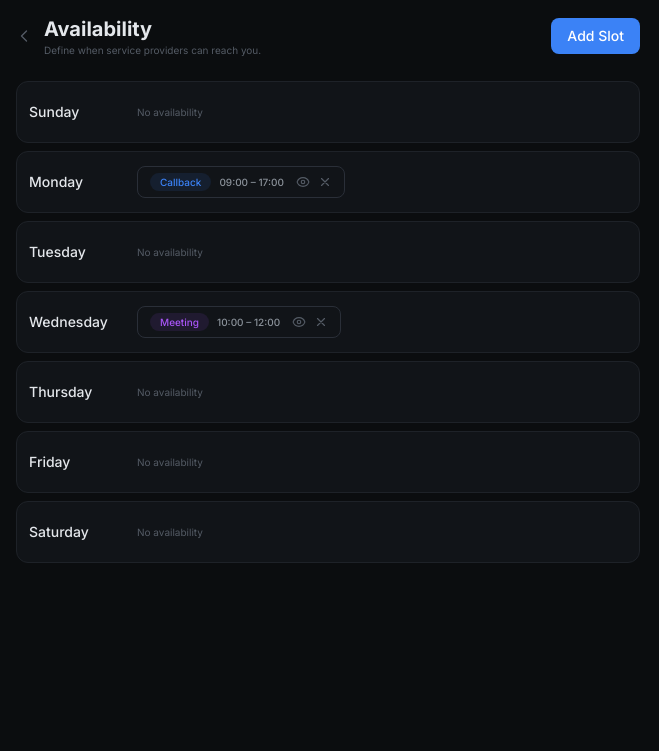
Test case: AvailabilitySettingsPage › shows slot form when Add Slot clicked
Step 1. Click the button "Add Slot" → (596, 36), box [551,18,640,54]
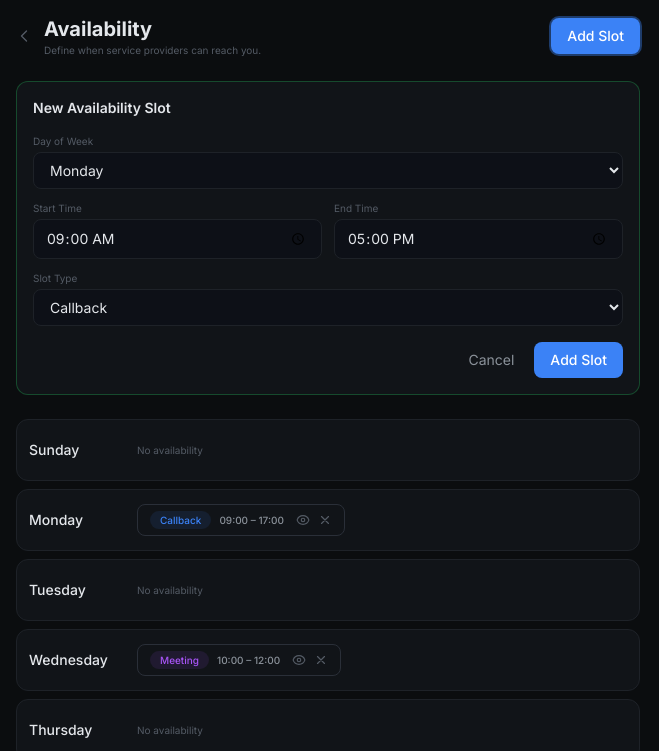
expect the heading "New Availability Slot" is shown: met, box [33,99,171,116]
expect the button "Cancel" is shown: met, box [456,342,526,378]
